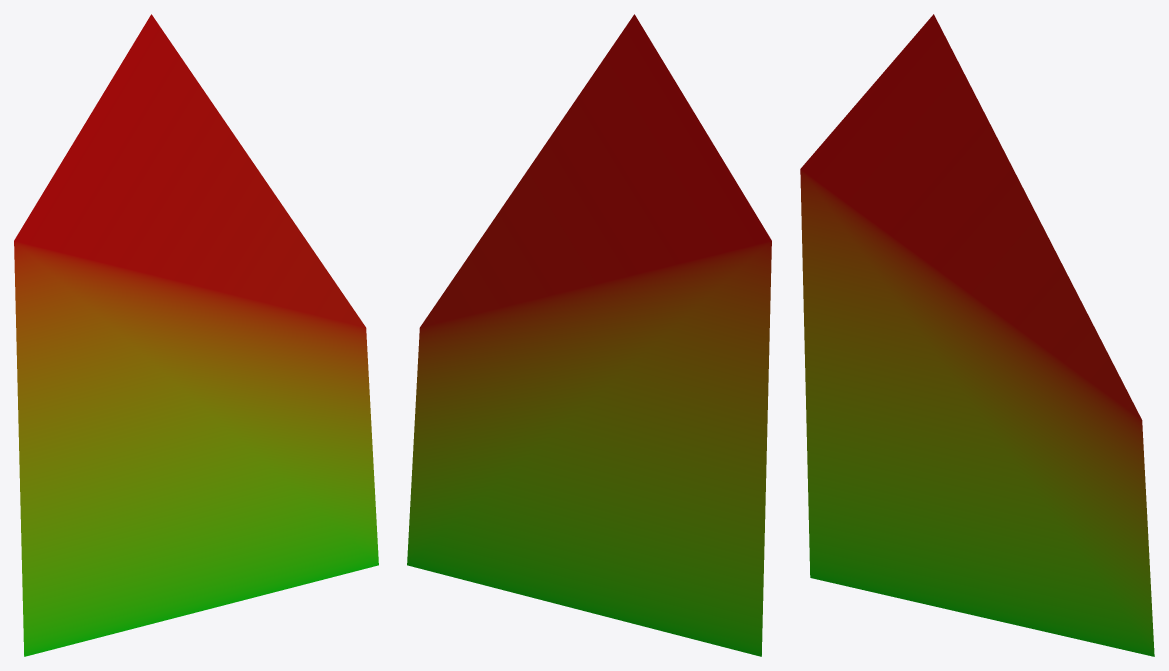
The model's file is Tundra Grass_LOD7_Var17_wk2oaeyqx.fbx.
3 renders of one model, left to right at view 1: azimuth 30°, elevation 25°; view 2: azimuth 150°, elevation 25°; view 3: azimuth 330°, elevation 25°, orthographic. The views are drawn at different scales.
Parts seen in each view (by area): view 1: _i6q9_Var17_LOD7; view 2: _i6q9_Var17_LOD7; view 3: _i6q9_Var17_LOD7.
Part boxes in pixels (x1,y1,x2,y2): _i6q9_Var17_LOD7: (14,14,378,656); _i6q9_Var17_LOD7: (407,14,771,656); _i6q9_Var17_LOD7: (800,14,1154,656).
Bounding box in the file's own units: 40.76 × 65.31 × 2.91e-06.
